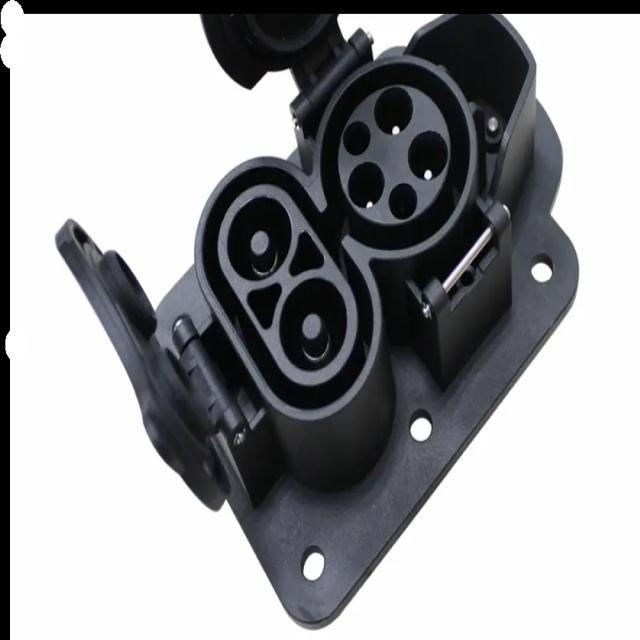CCS1: (206, 25, 474, 456)
